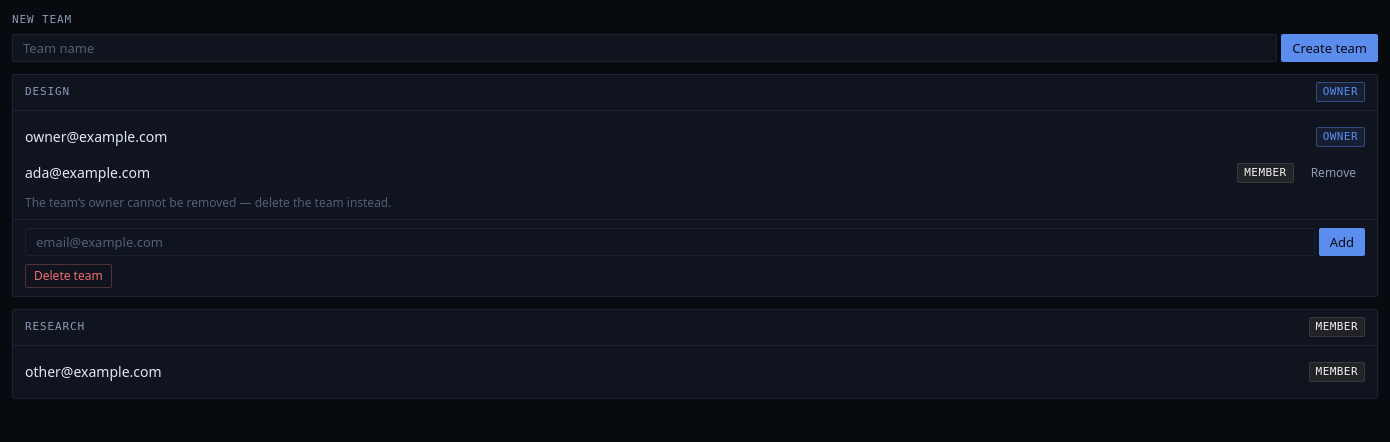
Test: TeamManagement › a 404 lookup shows the inline message and issues no POST to /members
expect the text "ada@example.com" is shown: met, box [25,163,150,182]
Step 1. Type "ghost@example.com" into the field named "Add member to Design" → coordinates (670, 242), box [25,228,1315,256]
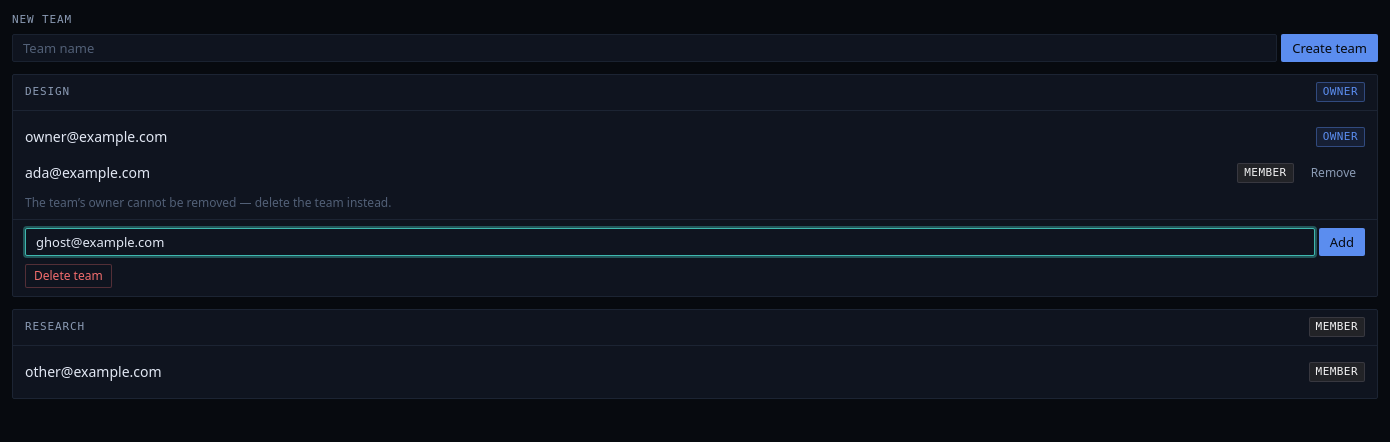
Step 2. Click the button "Add" → coordinates (1342, 242), box [1319,228,1365,256]
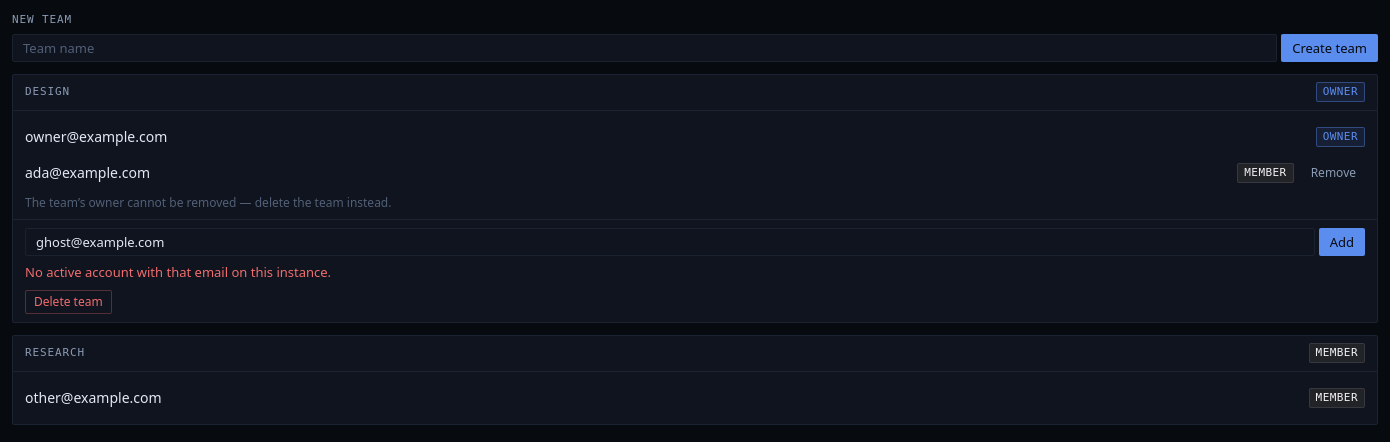
expect the text "No active account with that email on this instance." is shown: met, box [25,263,331,281]
